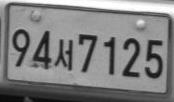1: (101, 36, 121, 75)
2: (122, 36, 141, 77)
4: (32, 29, 53, 69)
5: (144, 38, 163, 79)
7: (78, 33, 98, 73)
9: (11, 28, 30, 67)
서: (54, 39, 73, 71)
